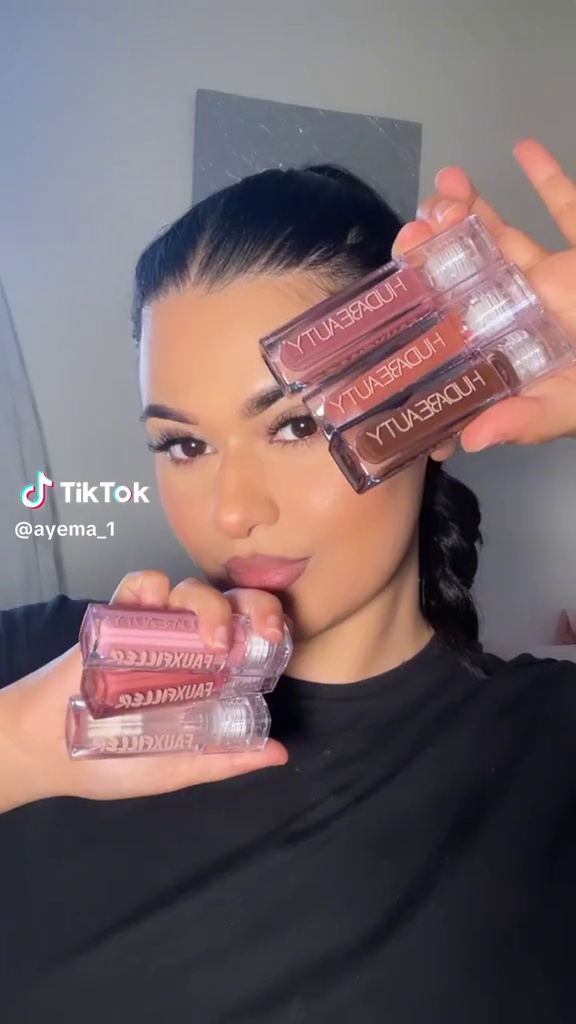train' :'yolo_data/train/images',: (250, 208, 570, 502), (55, 580, 299, 777)
